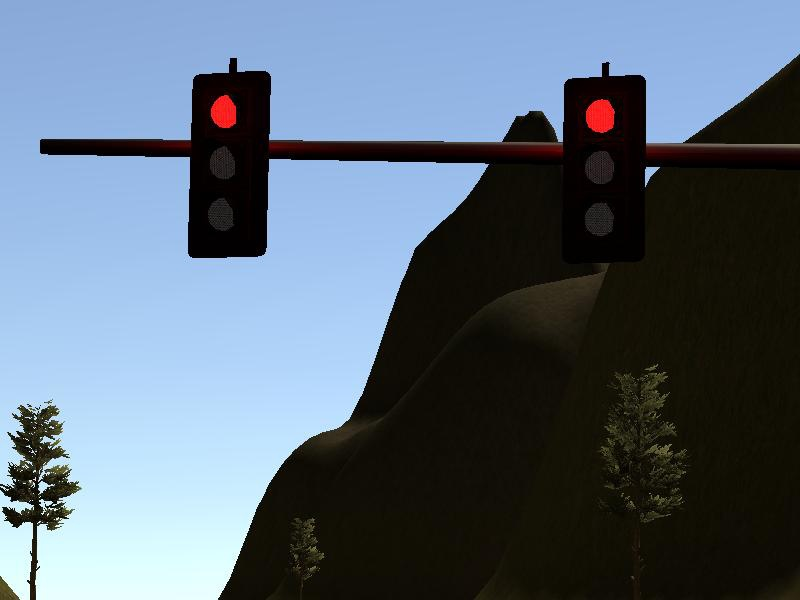red: (556, 57, 648, 262), (189, 51, 271, 263)
